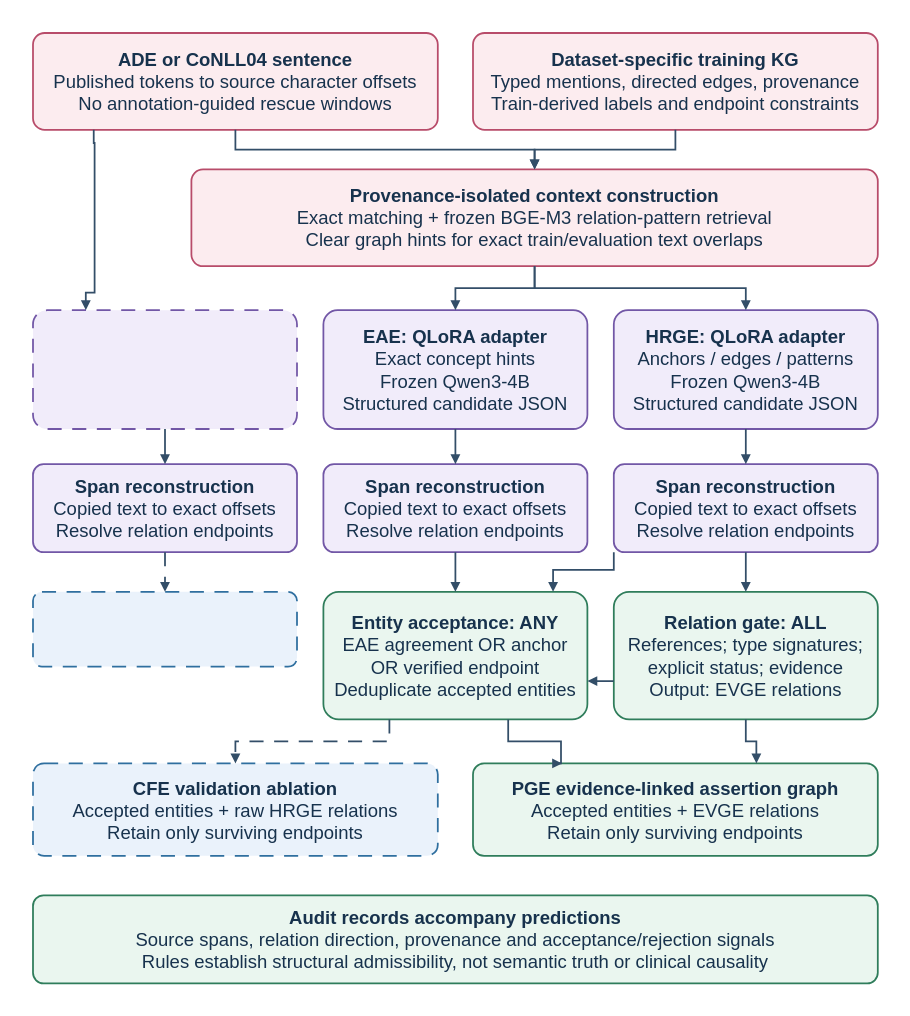
The diagram is 910 pixels wide and 1016 high, and some of its shapes have lost their labels. Each missing label, with the centre of its shape:
SOE comparison Not used in PGE fusion: the point at 164,628
SOE: QLoRA adapter Source only; no KG Frozen Qwen3-4B Structured candidate JSON: the point at 164,369
